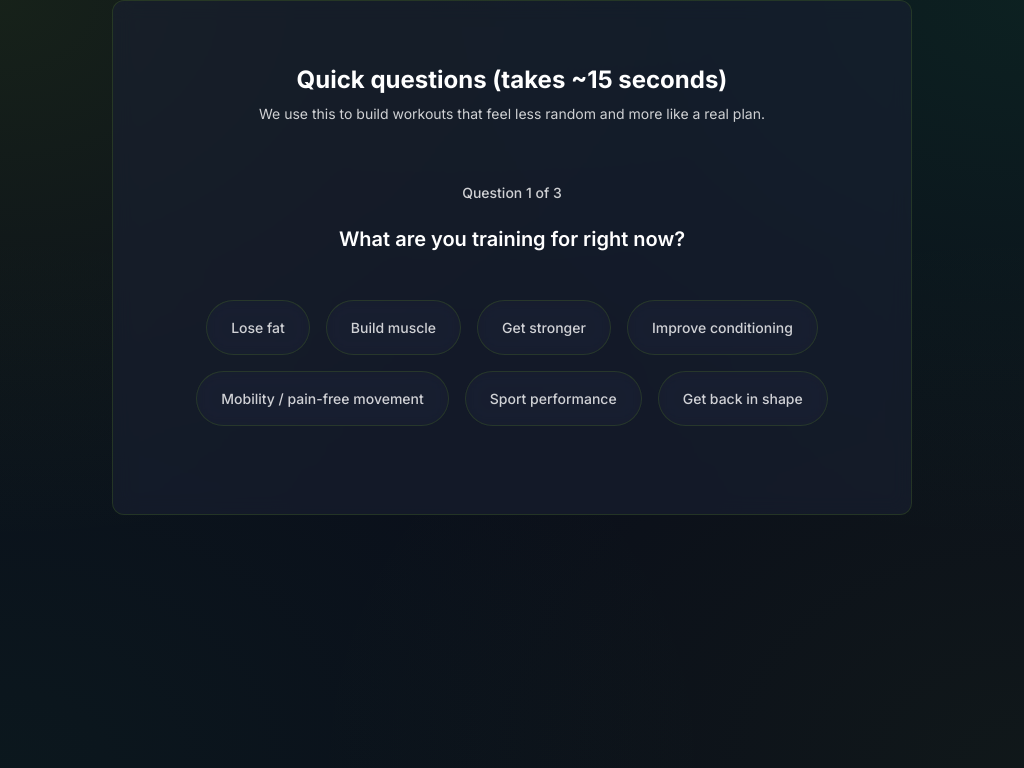
Test case: MicroInterview › should show optional Q4 after all required questions are answered
The image size is (1024, 768).
# Answer Q1
Click the button "Build muscle" at (393, 327), box x1=326 y1=300 x2=461 y2=355
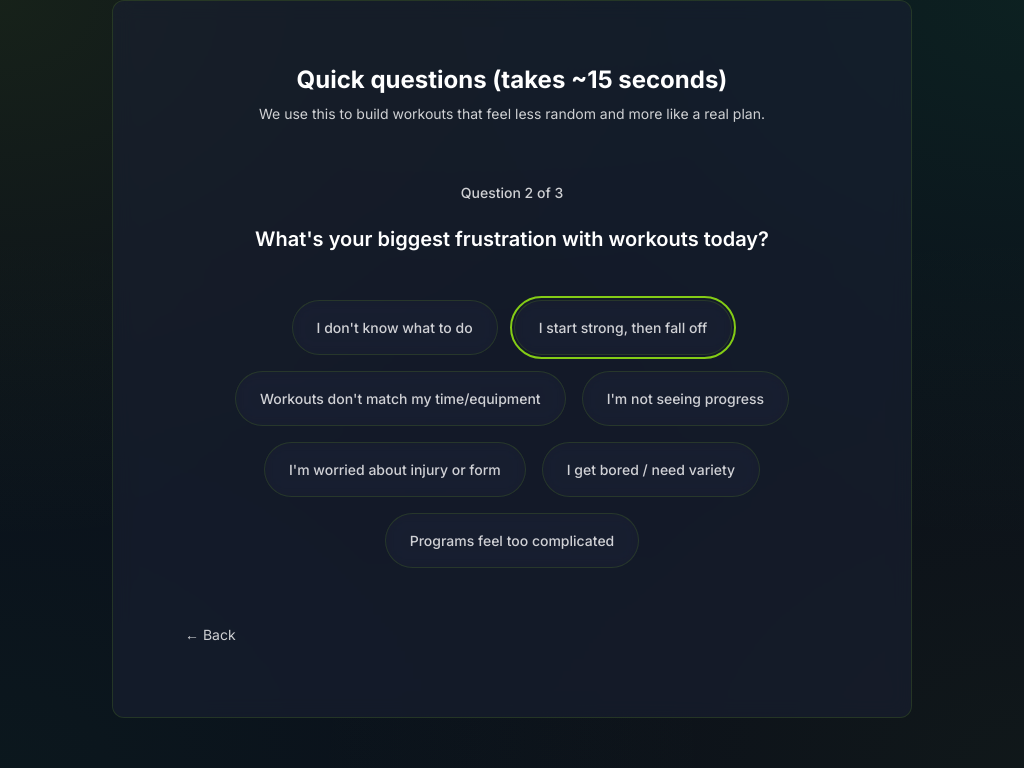
Check: the text "Question 2 of 3" is shown, box x1=461 y1=184 x2=563 y2=201
# Answer Q2
Click the button "I don't know what to do" at (395, 327), box x1=292 y1=300 x2=498 y2=355
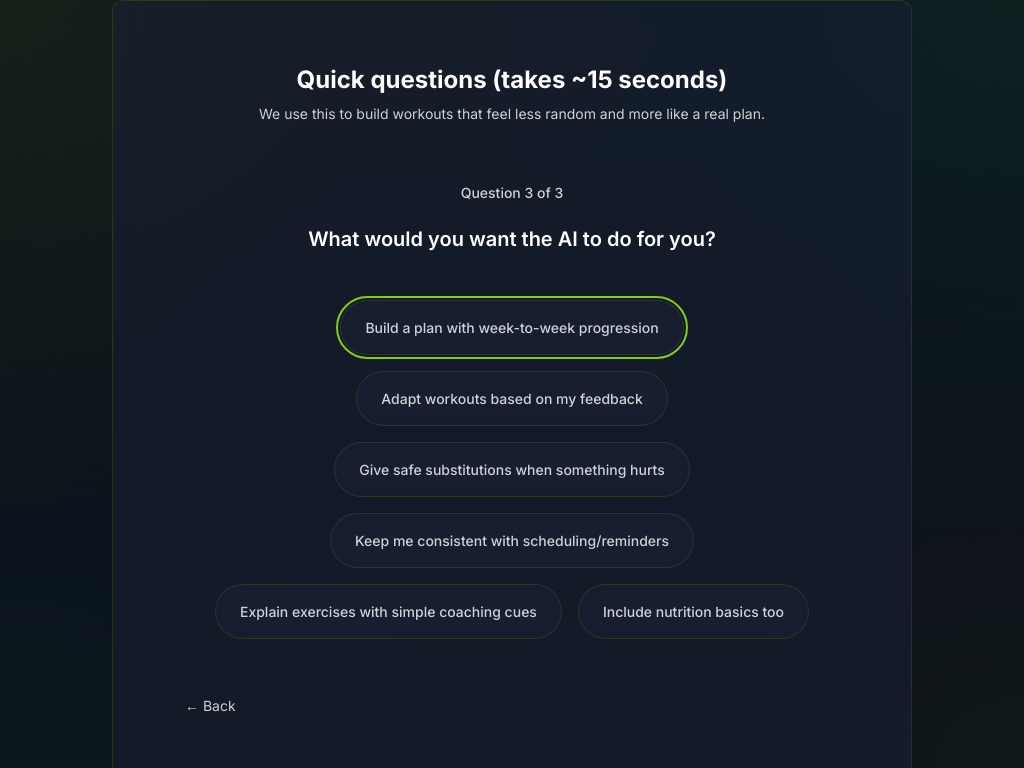
Check: the text "Question 3 of 3" is shown, box x1=461 y1=184 x2=563 y2=201
# Answer Q3
Click the button "Build a plan with week-to-week progression" at (512, 327), box x1=340 y1=300 x2=684 y2=355
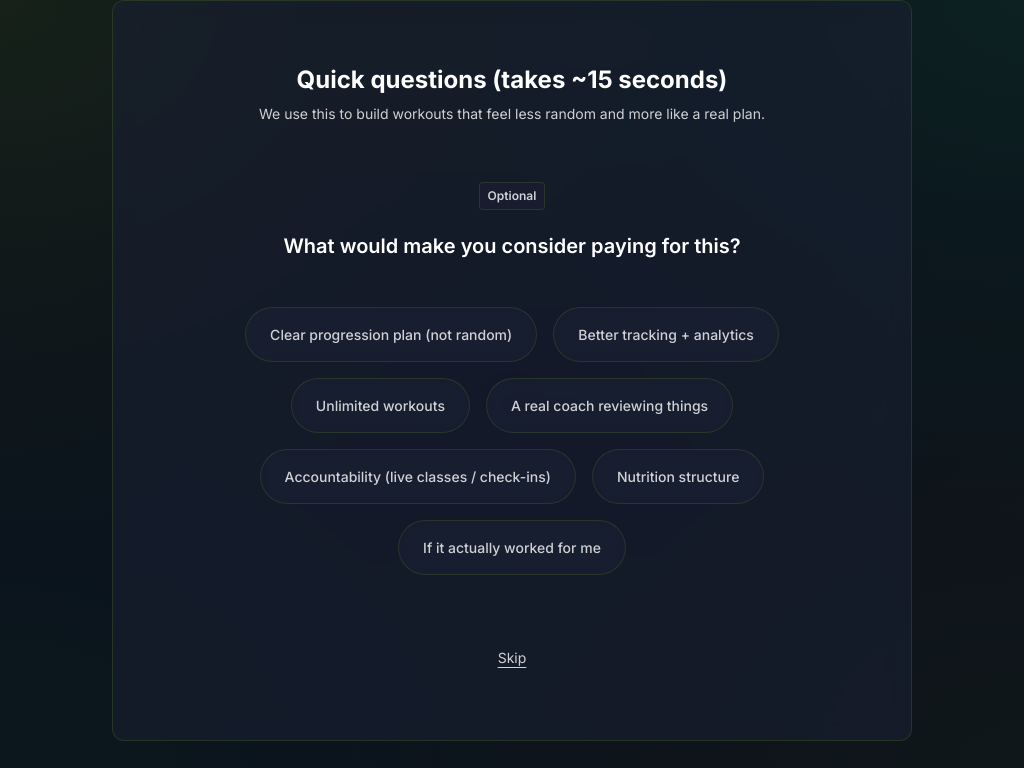
Check: the text "Optional" is shown, box x1=479 y1=182 x2=545 y2=210
Check: the heading "What would make you consider paying for this?" is shown, box x1=283 y1=234 x2=740 y2=258
